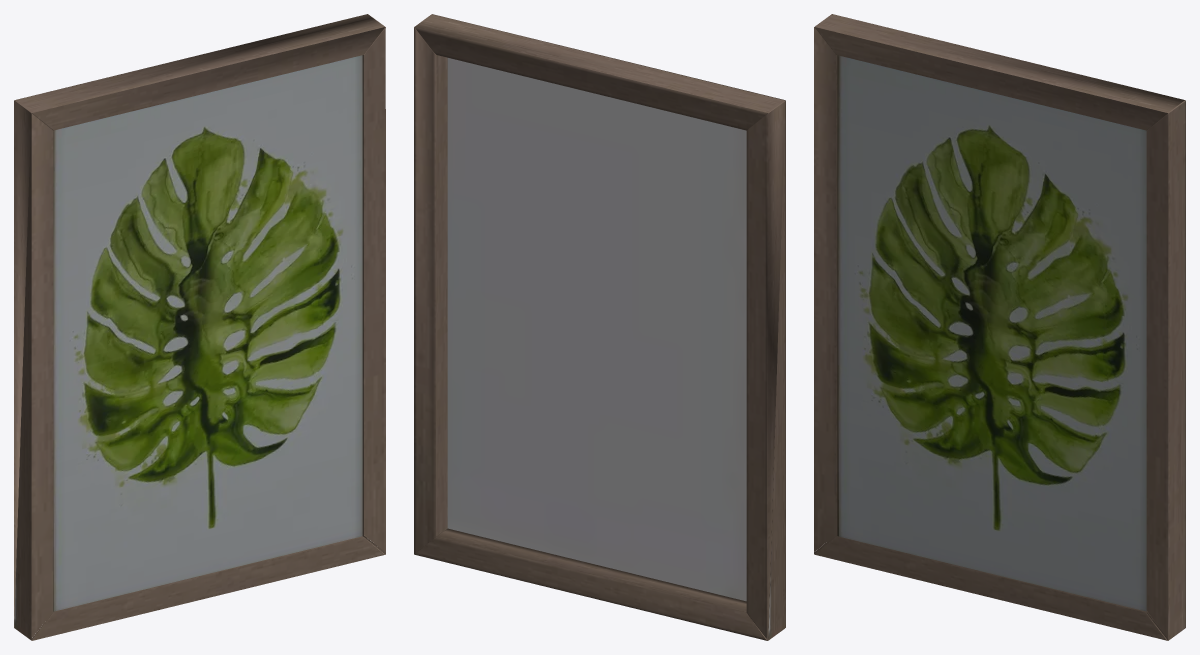
File: cadre_monstera_1.glb
The picture shows the model from 3 angles, left to right: view 1: azimuth 30°, elevation 25°; view 2: azimuth 150°, elevation 25°; view 3: azimuth 330°, elevation 25°; orthographic projection.
Visible parts, largest first — view 1: RootNode; view 2: RootNode; view 3: RootNode.
Boxes of the visible parts, bbox=[...] form: RootNode: bbox=[14, 14, 385, 640]; RootNode: bbox=[414, 14, 785, 640]; RootNode: bbox=[814, 14, 1185, 640].
Bounding box in the file's own units: 0.3579 × 0.5096 × 0.0317.
Materials: 1 (1 with a texture image).
